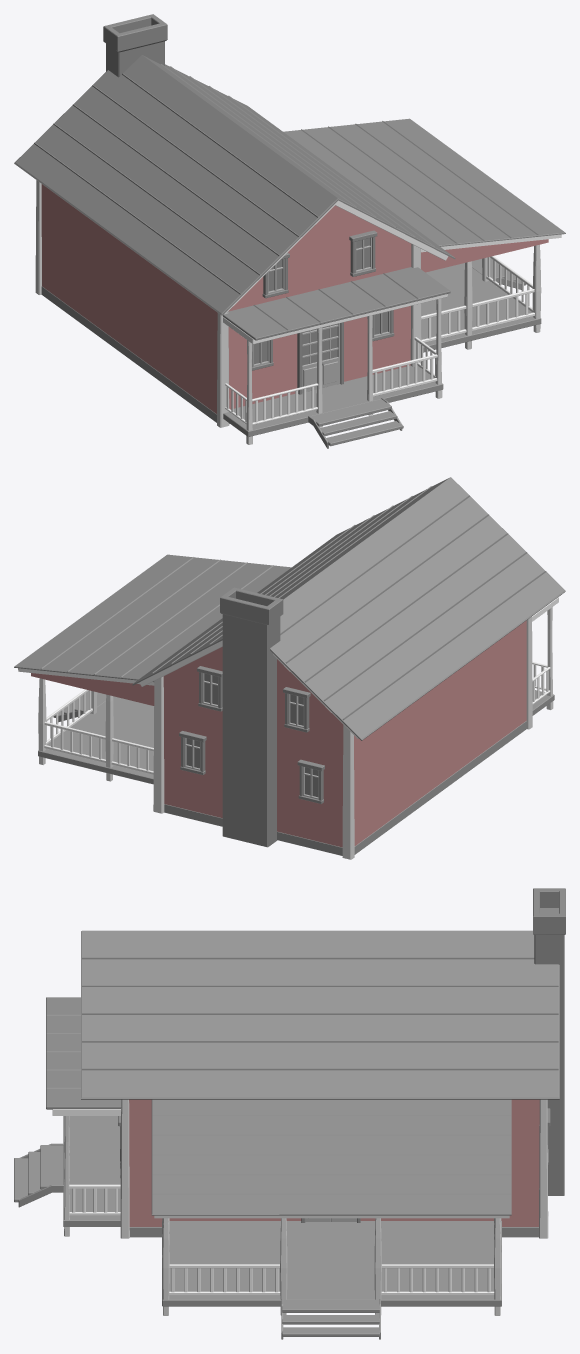
File: fp_library_manor.glb
The picture shows the model from 3 angles, top to bottom: view 1: azimuth 30°, elevation 25°; view 2: azimuth 150°, elevation 25°; view 3: azimuth 270°, elevation 25°; orthographic projection. The views are drawn at different scales.
Visible parts, largest first — view 1: farmhouse_a03_001, Box1806, Box1874, Box1880, Rectangle039, Box1869, Plane059, Rectangle045, Box1861, Box1872; view 2: farmhouse_a03_001, Box1806, Box1869, Box1874, Box1880, Box1872, Box1861, Rectangle045, Plane059, Rectangle039; view 3: farmhouse_a03_001, Box1874, Box1806, Box1880, Box1869, Rectangle045, Rectangle039, Box1872.
Boxes of the visible parts, bbox=[...] form: farmhouse_a03_001: bbox=[14, 55, 565, 365]; Box1806: bbox=[41, 184, 548, 413]; Box1874: bbox=[223, 258, 541, 448]; Box1880: bbox=[35, 180, 541, 444]; Rectangle039: bbox=[225, 337, 437, 424]; Box1869: bbox=[103, 14, 167, 77]; Plane059: bbox=[253, 237, 390, 392]; Rectangle045: bbox=[421, 256, 534, 342]; Box1861: bbox=[252, 230, 394, 394]; Box1872: bbox=[41, 286, 229, 423]; farmhouse_a03_001: bbox=[14, 477, 565, 797]; Box1806: bbox=[31, 620, 526, 847]; Box1869: bbox=[220, 587, 283, 847]; Box1874: bbox=[38, 690, 554, 784]; Box1880: bbox=[38, 607, 553, 859]; Box1872: bbox=[164, 721, 526, 855]; Box1861: bbox=[179, 666, 324, 803]; Rectangle045: bbox=[44, 689, 153, 774]; Plane059: bbox=[184, 673, 318, 799]; Rectangle039: bbox=[532, 661, 550, 704]; farmhouse_a03_001: bbox=[46, 930, 559, 1218]; Box1874: bbox=[14, 1116, 501, 1339]; Box1806: bbox=[129, 1099, 539, 1226]; Box1880: bbox=[64, 1099, 548, 1315]; Box1869: bbox=[533, 888, 565, 1195]; Rectangle045: bbox=[169, 1264, 494, 1295]; Rectangle039: bbox=[69, 1184, 120, 1215]; Box1872: bbox=[129, 1227, 538, 1237].
Size of the model in its own units: 1.71 by 1.02 by 1.8.
